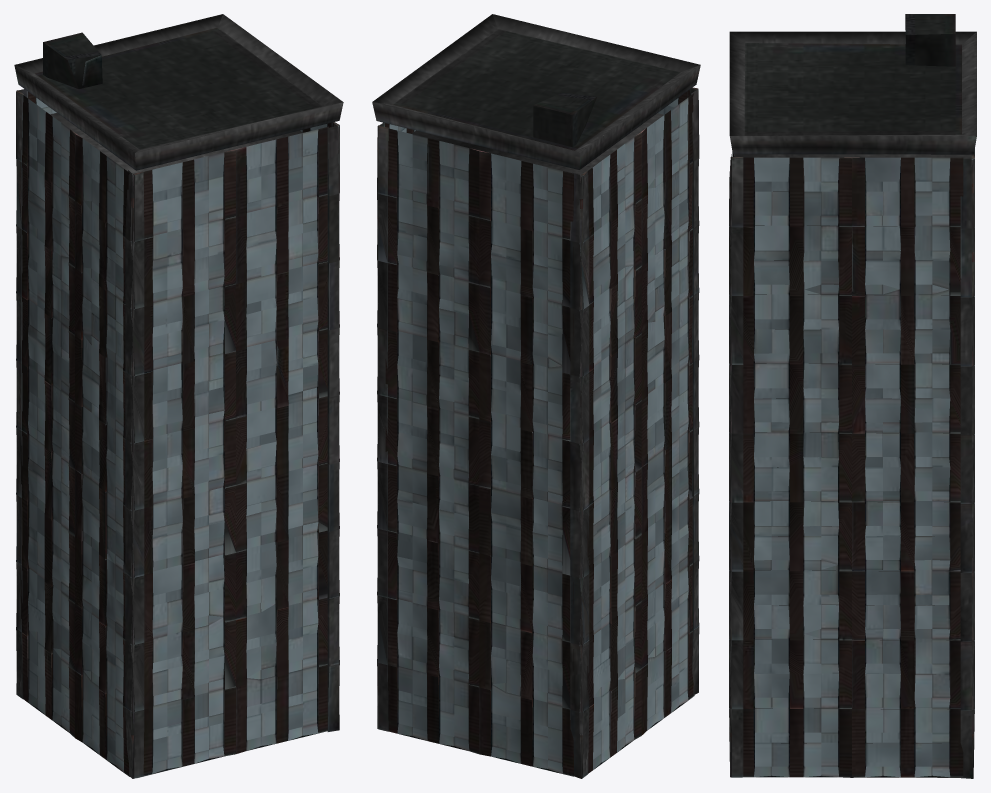
File: city_tower_2.glb
3 views of the same model, side by side, from view 1: azimuth 30°, elevation 25°; view 2: azimuth 150°, elevation 25°; view 3: azimuth 270°, elevation 25° (orthographic). The views are drawn at different scales.
Visible parts, largest first — view 1: CityTower2; view 2: CityTower2; view 3: CityTower2.
Boxes of the visible parts, left/top/right/bottom form: CityTower2: left=14, top=14, right=343, bottom=778; CityTower2: left=372, top=14, right=700, bottom=778; CityTower2: left=729, top=14, right=976, bottom=778.
Size of the model in its own units: 17 by 50.62 by 16.95.
Materials: 1 (1 with a texture image).
